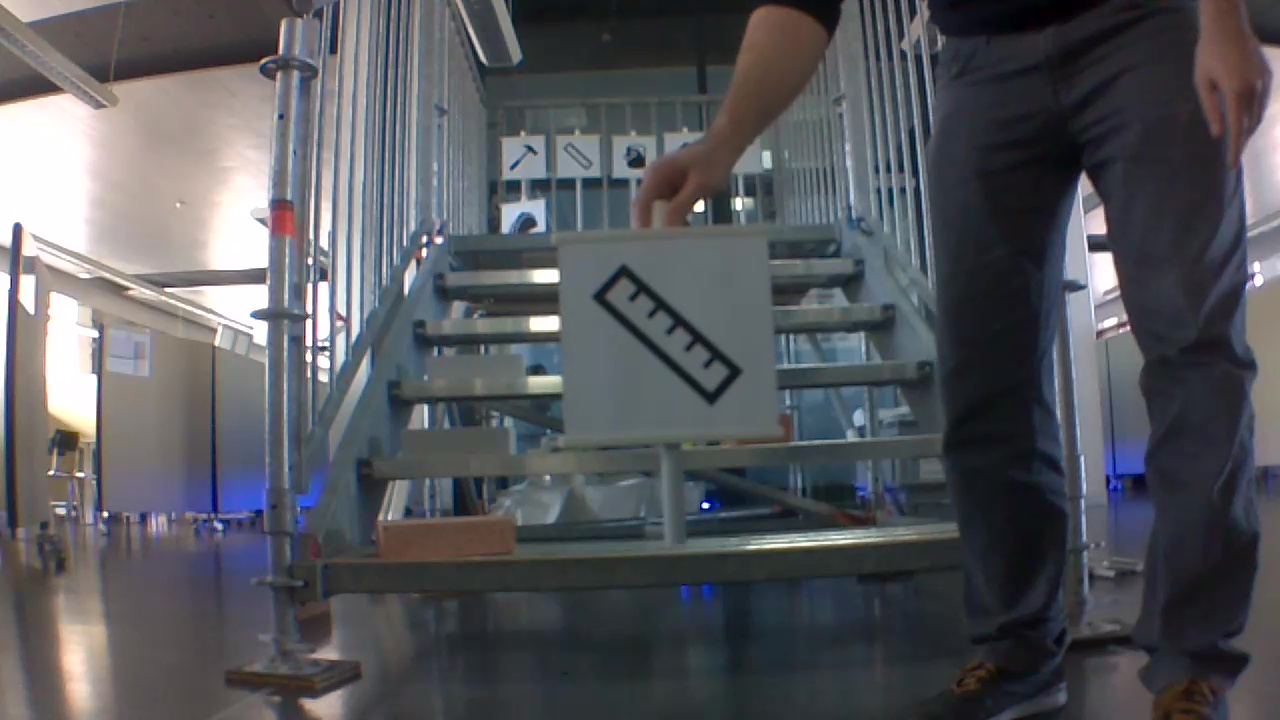brick: (376, 516, 519, 556), (404, 425, 519, 463), (418, 350, 527, 381)
bucket: (623, 143, 649, 172)
hammer: (506, 141, 539, 173)
ruler: (600, 261, 737, 408), (565, 139, 591, 175)
taco: (506, 209, 535, 234)
